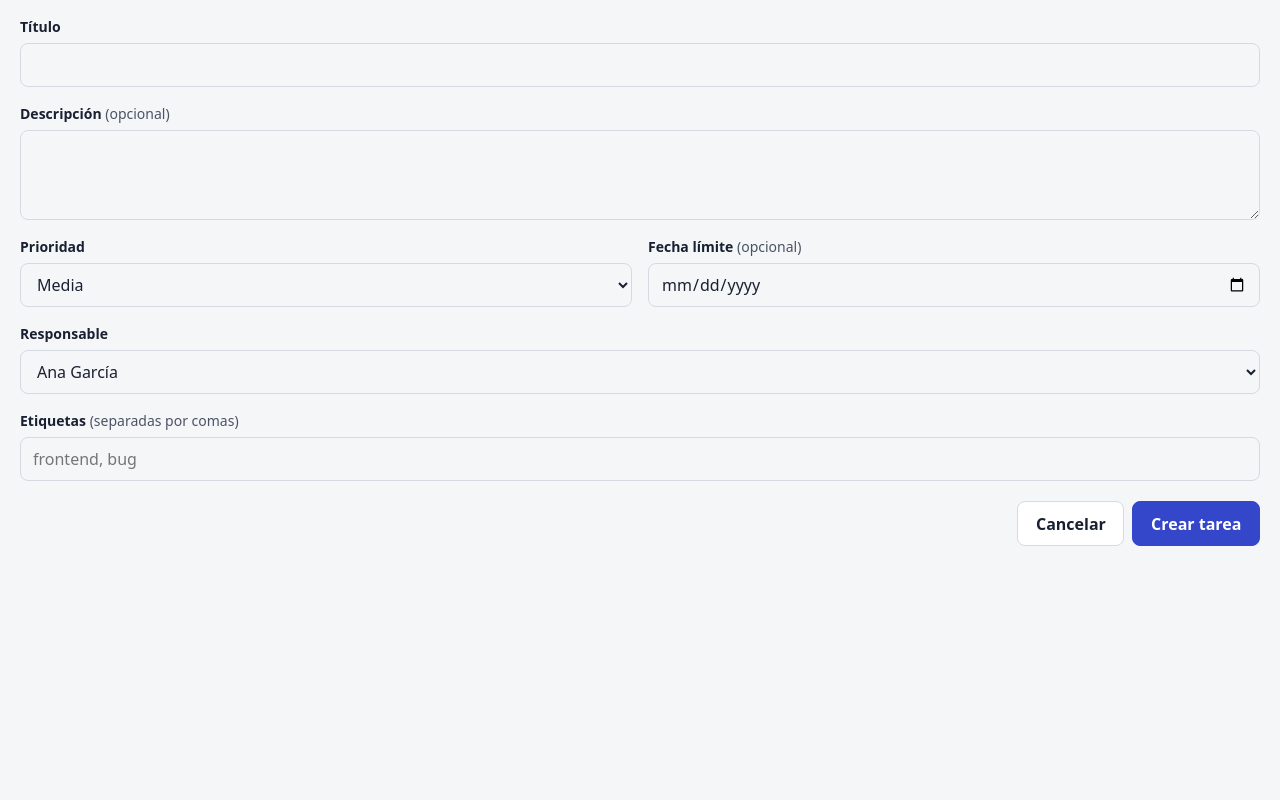
Test: FormularioTarea › muestra un aviso general si el error no es de un campo
In the field labelled "Título": [640, 65] box [20, 43, 1260, 87], type "Algo"
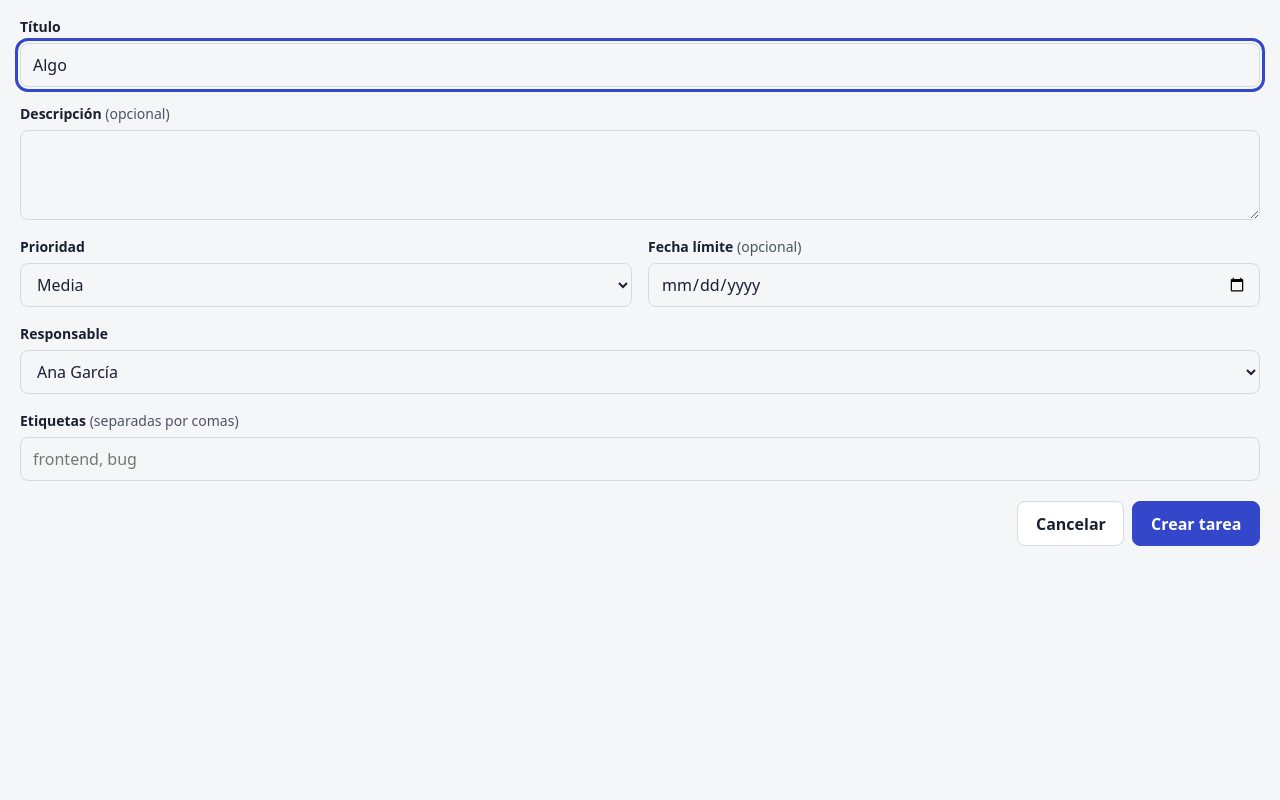
Click the button "Crear tarea": [1196, 524] box [1132, 501, 1260, 546]
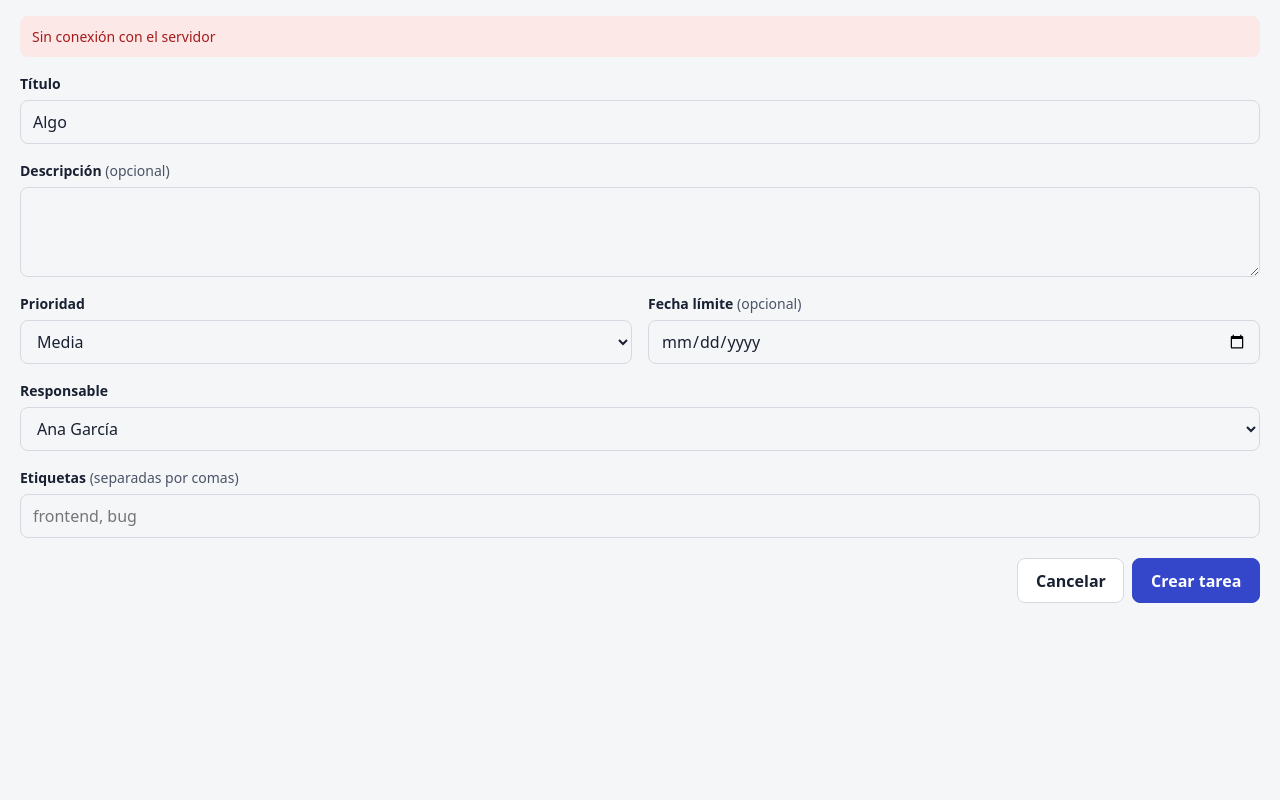
Expected: the message reads "Sin conexión con el servidor", [32, 27, 215, 46]
